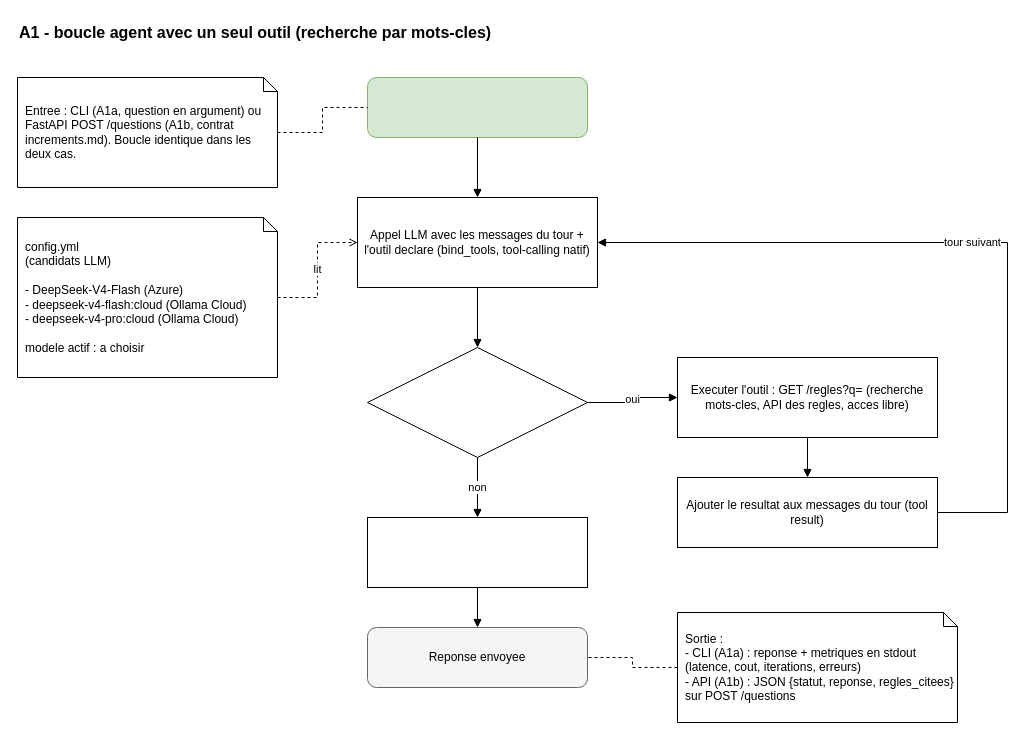
Image size: 1033x740. Some labels were removed from this diagram. The shapes that lost their labels are listed below. From the top down, each one's centre as x and y in pixels, then its label:
At point (477, 107): "Question recue".
At point (477, 402): "Le modele appelle l'outil recherche_regles ?".
At point (477, 552): "Reponse finale (texte + regles citees)".
